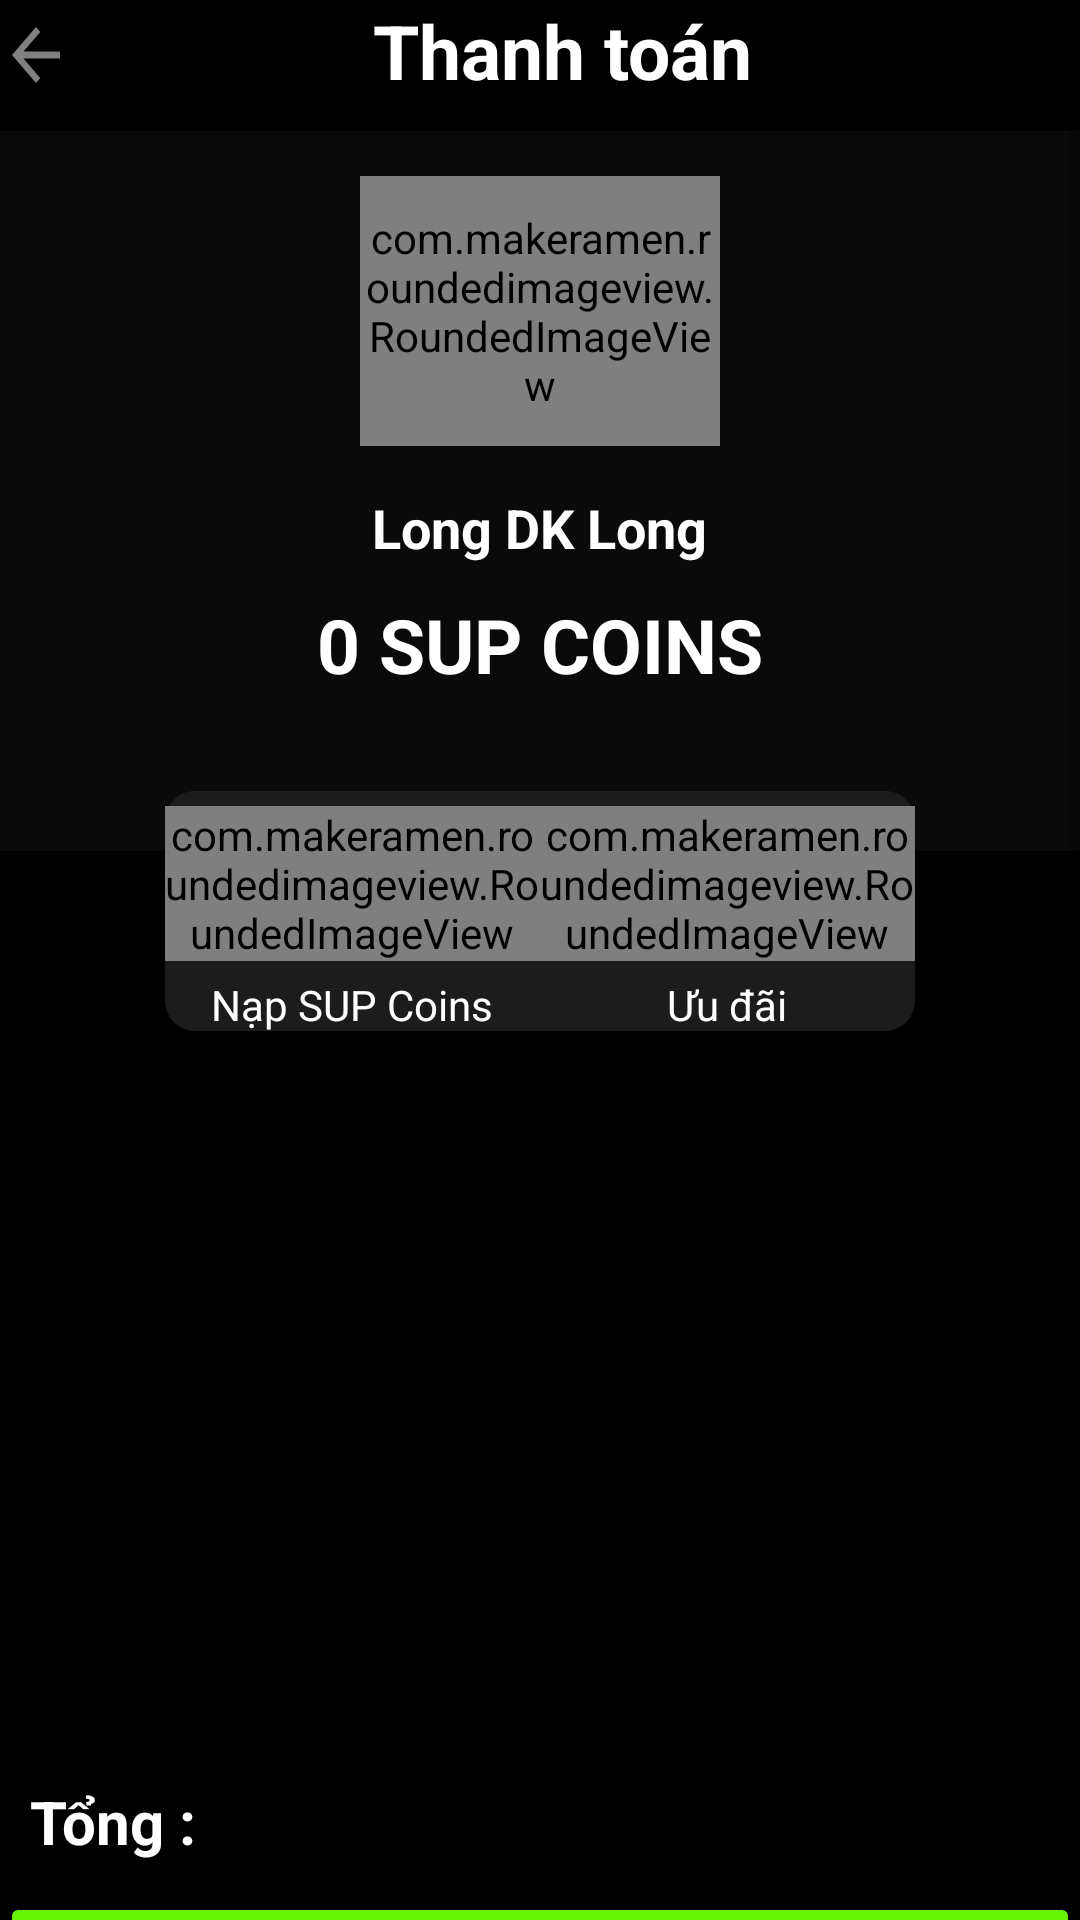

Screen size 1080x1920. Icon name, then its box in pixels as (x1, y1, x2, y2):
arrow back: (12, 27, 60, 83)
